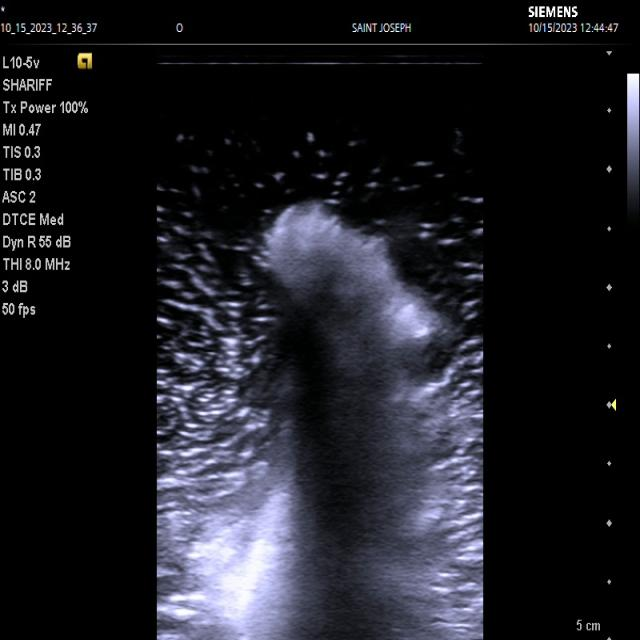tissue: (219, 202, 446, 640)
